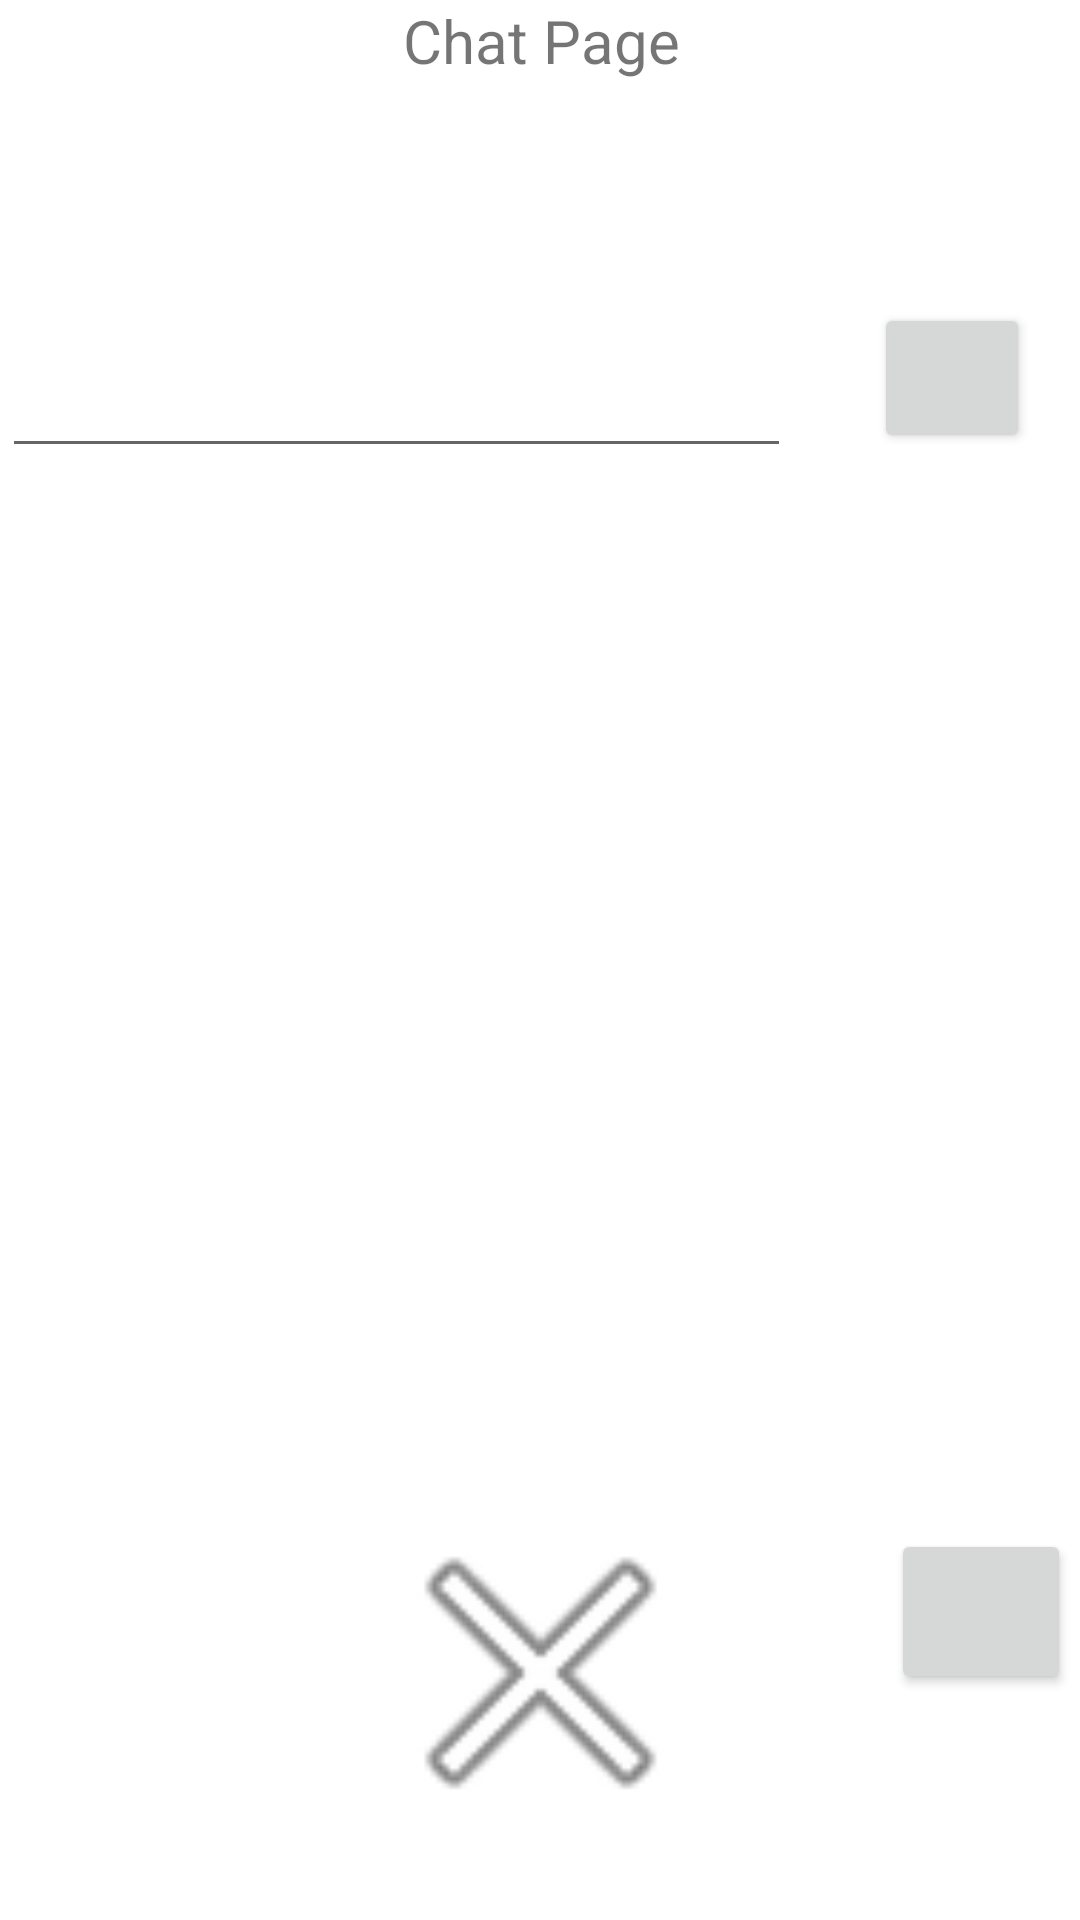

Named icons in this screenshot (1080x1920) and their centers, (x=x, y=y):
close clear cancel: (x=540, y=1673)
